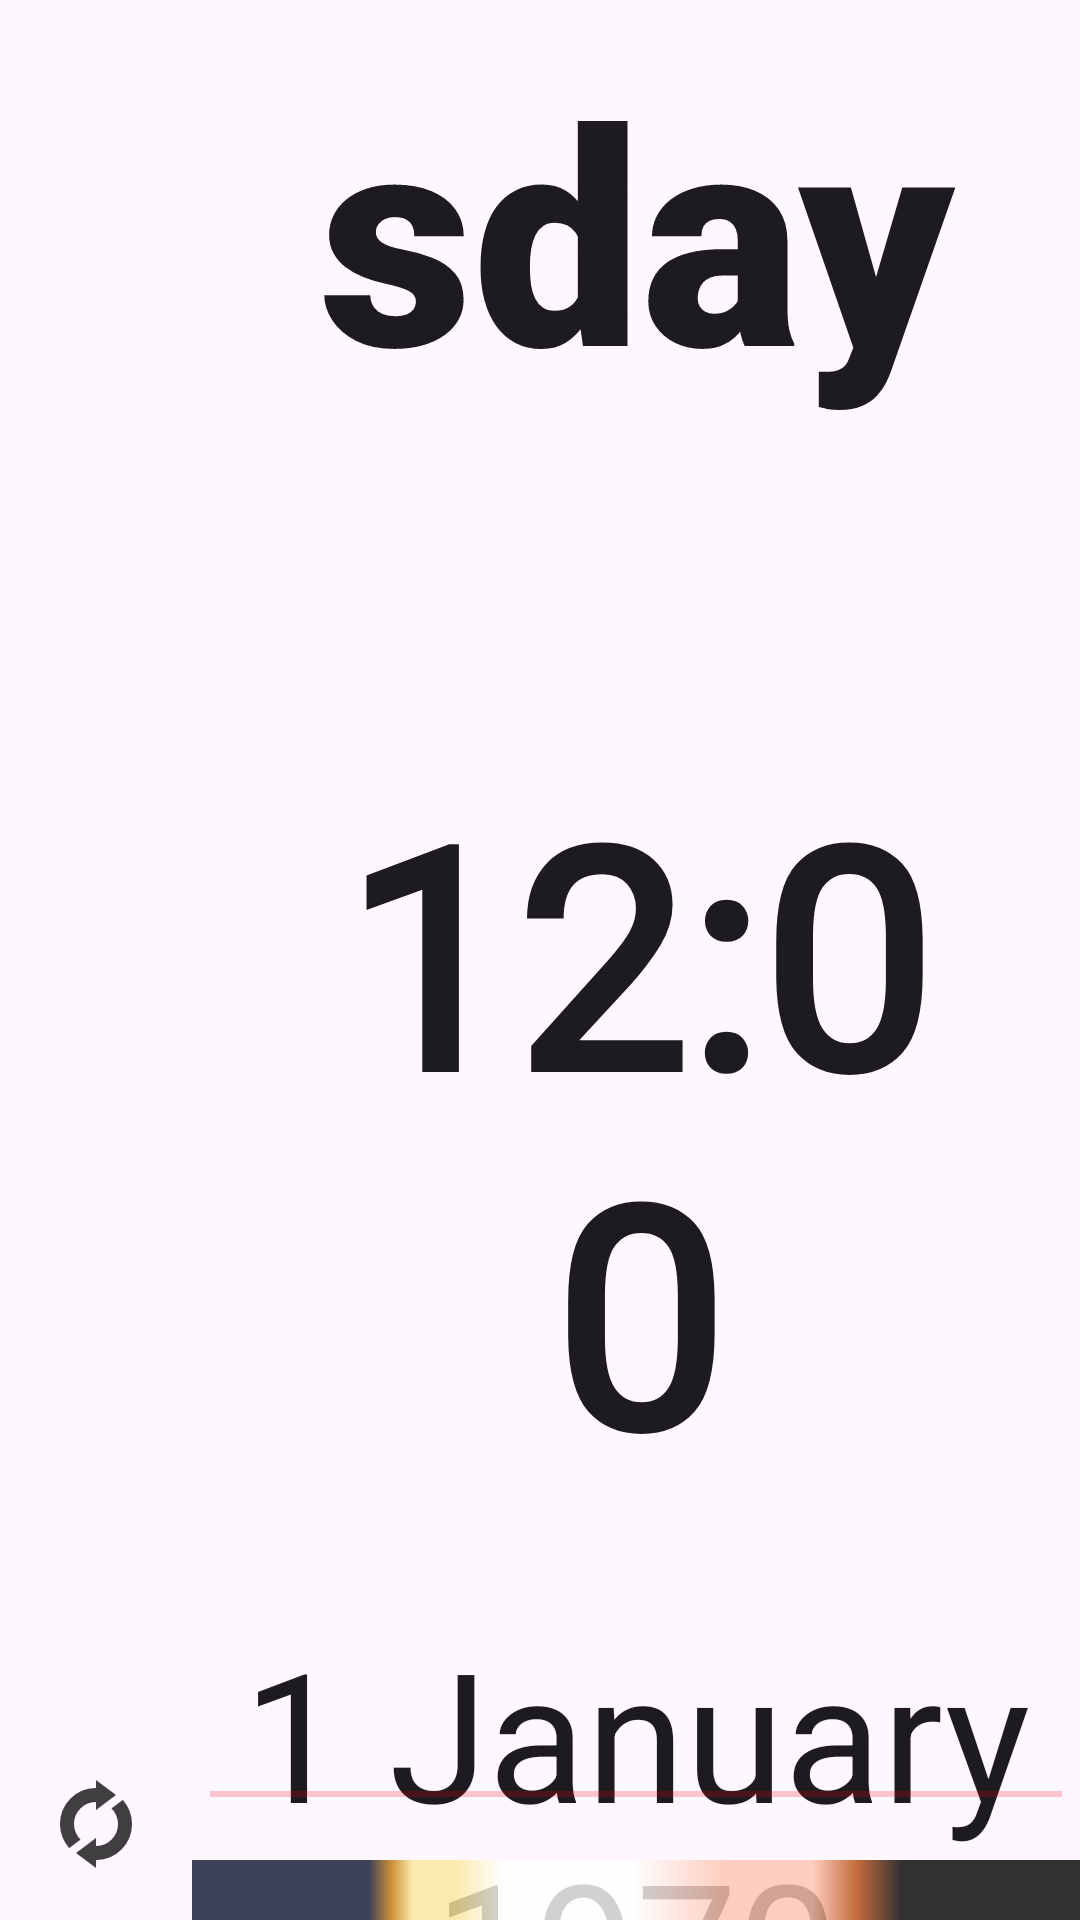

Screen size 1080w x 1920h. Icon name, then its box in pixels as Rect(x1, y1, x2, y2):
Sincronizar actividades: Rect(60, 1780, 132, 1868)
